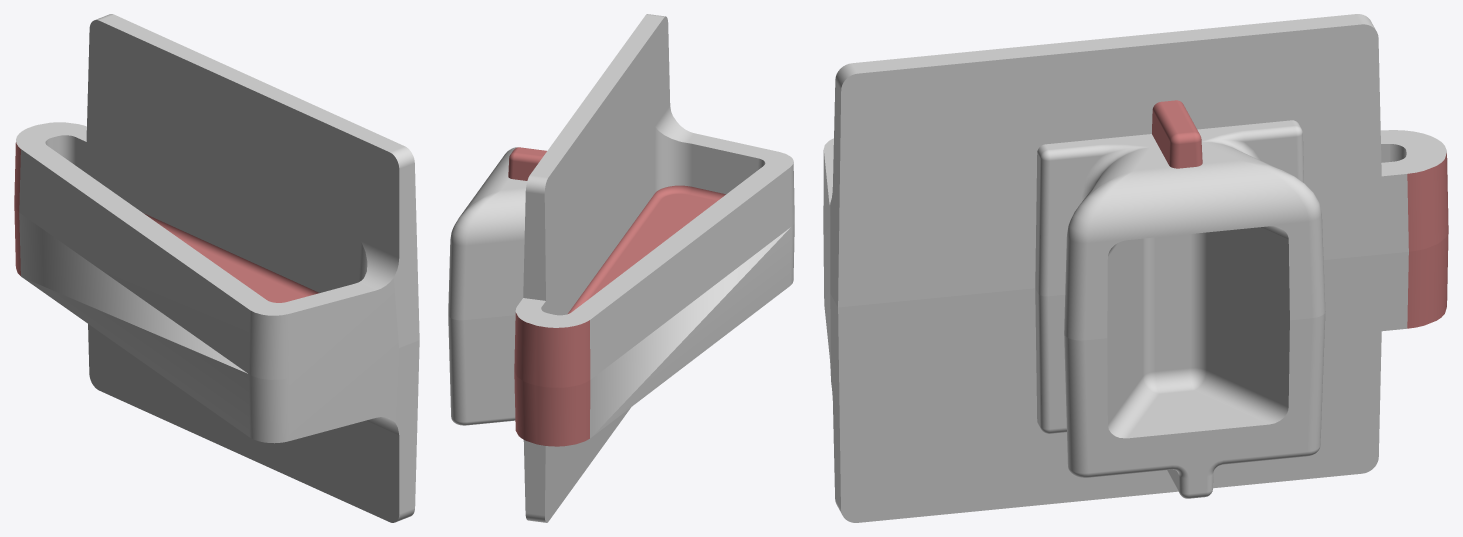
Rendered from 7d5f3231-4fdc-4fec-9288-77089d9be59a.glb.
3 renders of one model, left to right at view 1: azimuth 30°, elevation 25°; view 2: azimuth 150°, elevation 25°; view 3: azimuth 270°, elevation 25°, orthographic. The views are drawn at different scales.
Visible parts, largest first — view 1: 门体-50_Default; view 2: 门体-50_Default; view 3: 门体-50_Default.
Boxes of the visible parts, x1,y1,x2,y2 form: 门体-50_Default: (14,14,419,522); 门体-50_Default: (448,14,794,522); 门体-50_Default: (823,14,1448,522).
Size of the model in its own units: 0.0185 by 0.029 by 0.0366.
